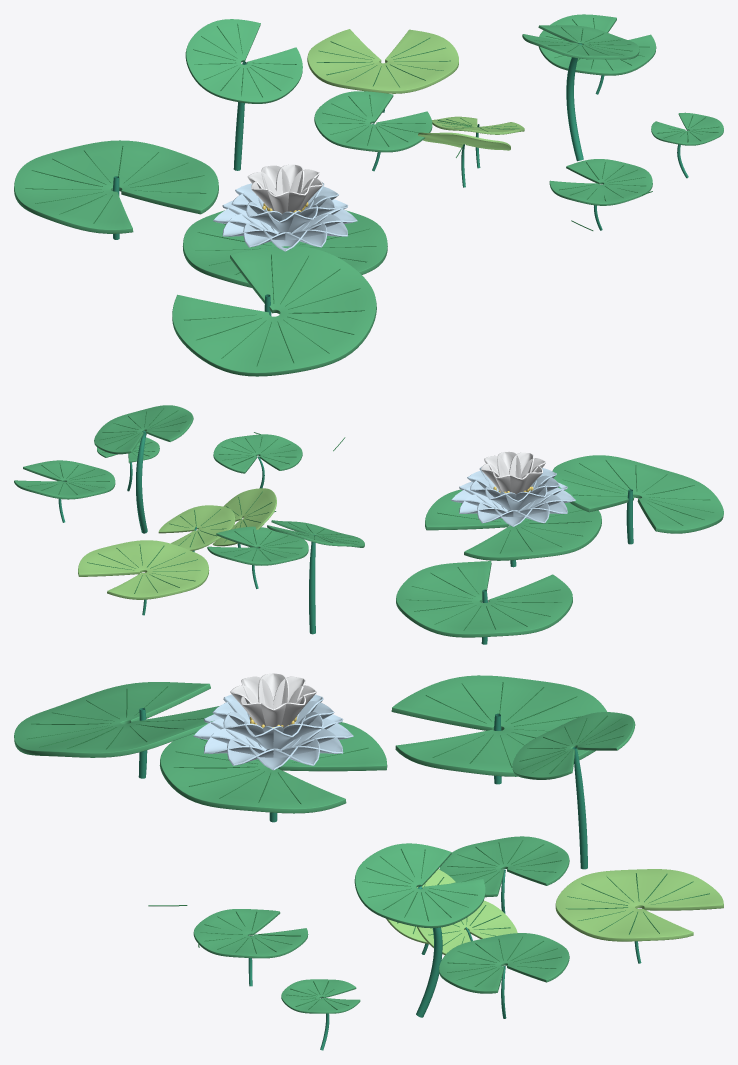
File: lotus_and_lilypads001.glb
3 views of the same model, one above another, from view 1: azimuth 30°, elevation 25°; view 2: azimuth 150°, elevation 25°; view 3: azimuth 270°, elevation 25° (orthographic). The views are drawn at different scales.
Parts seen in each view (by area): view 1: LotusPad.004, LotusPad.005, LilyPad_02.001, LilyPad_01.002, LotusPad.001, LilyPad_01.008, LilyPad_03.001, LilyPad_01.001, LilyPad_01.007, LilyPad_05.001, LilyPad_04.002, LilyPad_04.001 (+3 smaller); view 2: LotusPad.005, LotusPad.004, LotusPad.001, LilyPad_02.001, LilyPad_01.007, LilyPad_01.001, LilyPad_01.008, LilyPad_03.001, LilyPad_04.002, LilyPad_04.001, LilyPad_01.002, PadStem_01.003 (+4 smaller); view 3: LotusPad.005, LotusPad.004, LotusPad.001, LilyPad_02.001, LilyPad_01.007, LilyPad_01.001, LilyPad_01.008, LilyPad_01.002, LilyPad_03.001, LilyPad_05.001, LilyPad_04.002, PadStem_01.002 (+4 smaller).
Boxes of the visible parts, x1,y1,x2,y2 form: LotusPad.004: [172, 246, 376, 376]; LotusPad.005: [14, 140, 218, 233]; LilyPad_02.001: [307, 29, 458, 93]; LilyPad_01.002: [185, 19, 302, 103]; LotusPad.001: [182, 210, 387, 287]; LilyPad_01.008: [314, 91, 432, 152]; LilyPad_03.001: [549, 159, 652, 205]; LilyPad_01.001: [538, 14, 656, 75]; LilyPad_01.007: [522, 25, 639, 59]; LilyPad_05.001: [651, 112, 723, 145]; LilyPad_04.002: [432, 116, 524, 134]; LilyPad_04.001: [418, 132, 510, 150]; LotusPad.005: [396, 561, 572, 637]; LotusPad.004: [552, 455, 723, 533]; LotusPad.001: [425, 489, 601, 560]; LilyPad_02.001: [78, 540, 209, 599]; LilyPad_01.007: [94, 405, 193, 454]; LilyPad_01.001: [14, 460, 115, 499]; LilyPad_01.008: [207, 526, 308, 565]; LilyPad_03.001: [213, 434, 302, 473]; LilyPad_04.002: [158, 505, 235, 550]; LilyPad_04.001: [212, 488, 276, 546]; LilyPad_01.002: [267, 520, 364, 547]; PadStem_01.003: [136, 431, 147, 533]; LotusPad.005: [391, 675, 606, 776]; LotusPad.004: [14, 682, 219, 757]; LotusPad.001: [159, 722, 387, 813]; LilyPad_02.001: [555, 869, 723, 941]; LilyPad_01.007: [354, 843, 485, 928]; LilyPad_01.001: [439, 933, 569, 993]; LilyPad_01.008: [439, 836, 569, 897]; LilyPad_01.002: [512, 712, 635, 779]; LilyPad_03.001: [193, 909, 308, 958]; LilyPad_05.001: [281, 979, 360, 1013]; LilyPad_04.002: [417, 900, 517, 954]; PadStem_01.002: [572, 747, 587, 869].
Bounding box in the file's own units: 9.61 × 2 × 8.43.
